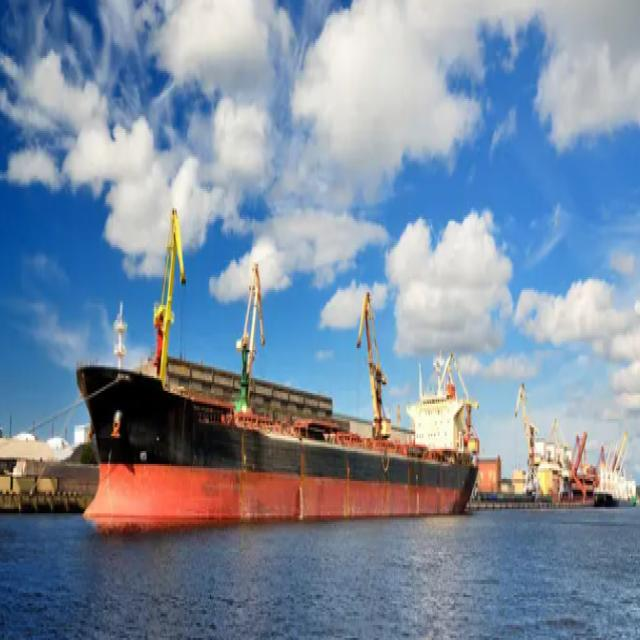cargoship: (73, 269, 486, 540)
